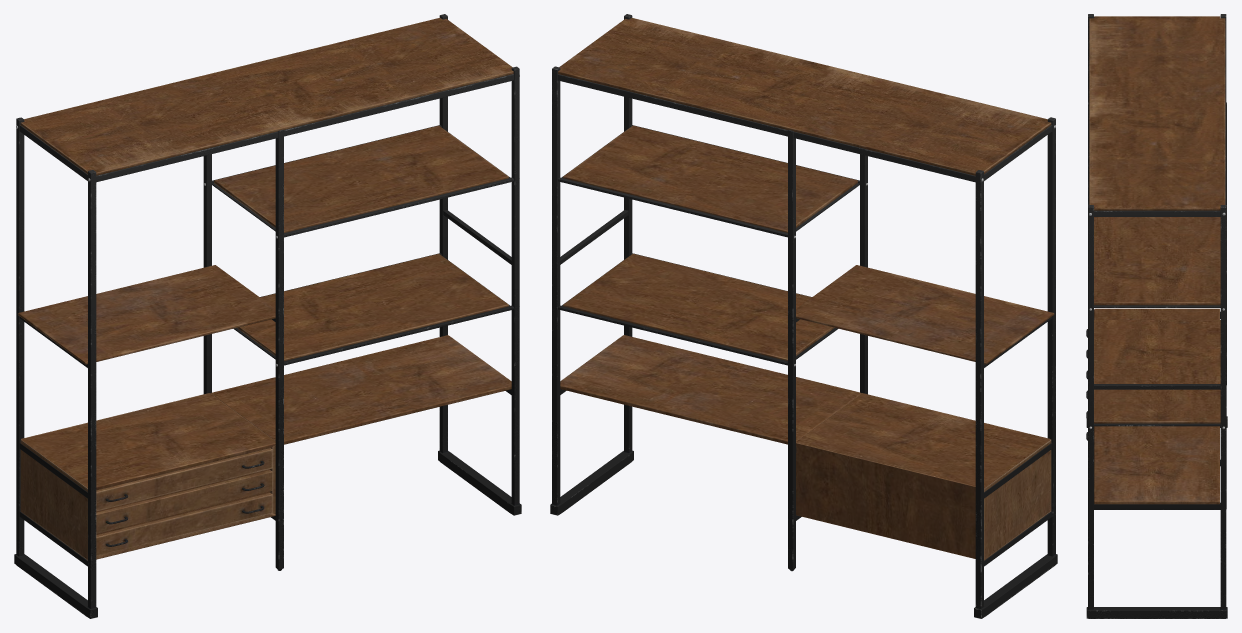
The model's file is ph_steel_frame_shelves_03.glb.
3 views of the same model, side by side, from view 1: azimuth 30°, elevation 25°; view 2: azimuth 150°, elevation 25°; view 3: azimuth 270°, elevation 25° (orthographic). The views are drawn at different scales.
Parts seen in each view (by area): view 1: steel_frame_shelves_03, steel_frame_shelves_03_drawer_03, steel_frame_shelves_03_drawer_02, steel_frame_shelves_03_drawer_01; view 2: steel_frame_shelves_03; view 3: steel_frame_shelves_03.
Part boxes in pixels (x1,y1,x2,y2): steel_frame_shelves_03: (14,14,521,618); steel_frame_shelves_03_drawer_03: (96,492,272,556); steel_frame_shelves_03_drawer_02: (96,470,272,533); steel_frame_shelves_03_drawer_01: (96,448,272,511); steel_frame_shelves_03: (550,14,1057,618); steel_frame_shelves_03: (1086,14,1227,618).
Bounding box in the file's own units: 2.35 × 2.31 × 0.7212.
2 materials, 2 textured.
